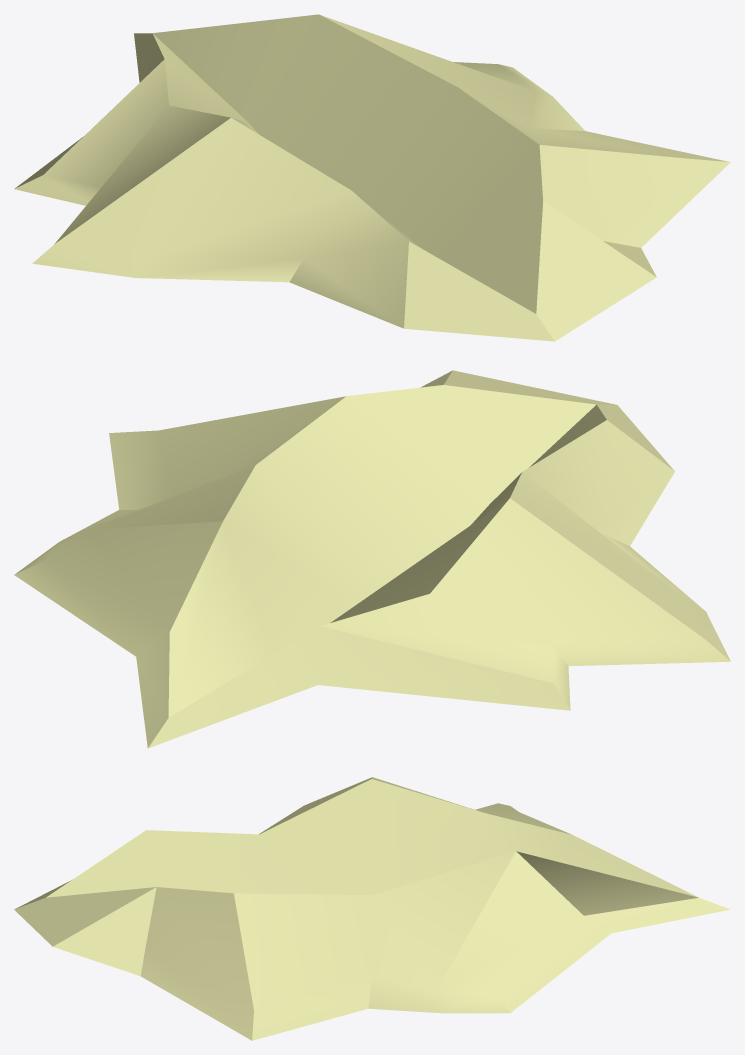
Rendered from Crack.fbx.
The picture shows the model from 3 angles, top to bottom: view 1: azimuth 30°, elevation 25°; view 2: azimuth 150°, elevation 25°; view 3: azimuth 270°, elevation 25°; orthographic projection. The views are drawn at different scales.
Parts seen in each view (by area): view 1: Crack; view 2: Crack; view 3: Crack.
Part boxes in pixels (box(x1,y1,x2,y2)): Crack: box(14, 14, 730, 341); Crack: box(14, 370, 730, 748); Crack: box(14, 777, 730, 1040).
Size of the model in its own units: 1.34 by 0.2844 by 1.56.
